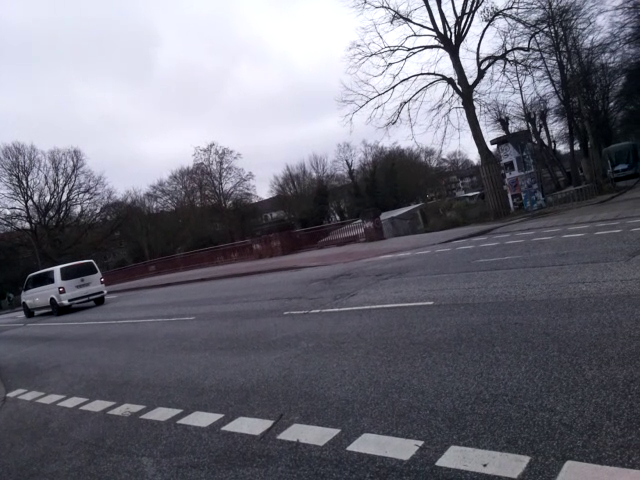car: (18, 255, 112, 321)
